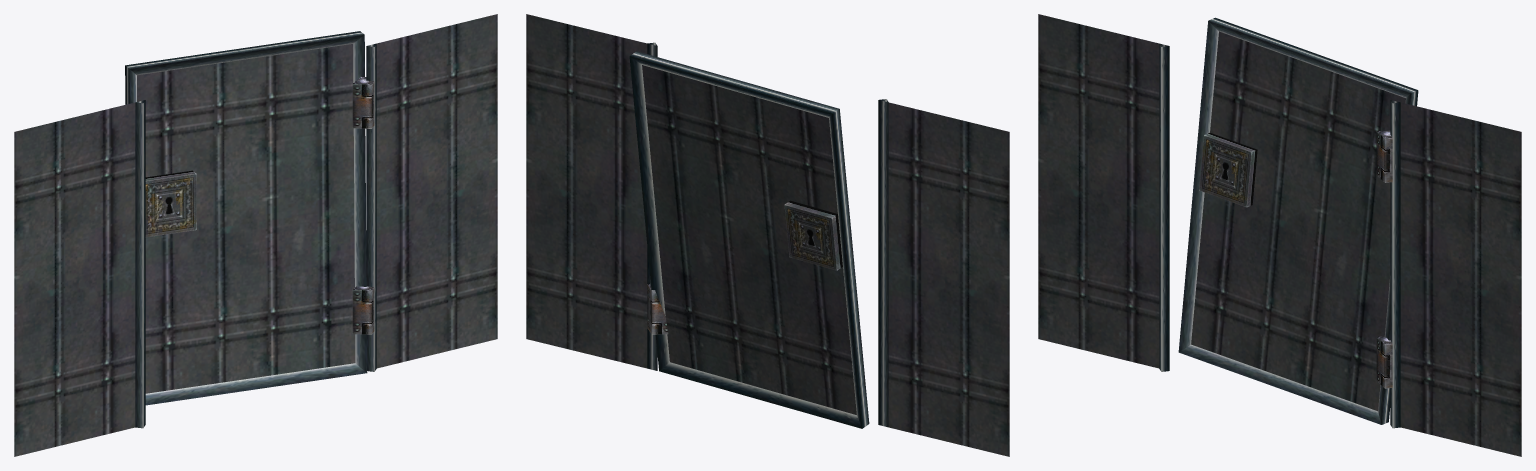
The picture shows the model from 3 angles, left to right: view 1: azimuth 30°, elevation 25°; view 2: azimuth 150°, elevation 25°; view 3: azimuth 330°, elevation 25°; orthographic projection.
Parts seen in each view (by area): view 1: d_grid6; view 2: d_grid6; view 3: d_grid6.
Boxes of the visible parts, <box> form: d_grid6: <box>14,14,497,456</box>; d_grid6: <box>526,14,1009,456</box>; d_grid6: <box>1038,14,1521,456</box>.
Bounding box in the file's own units: 2.8 × 1.85 × 0.3873.
3 materials, 3 textured.
